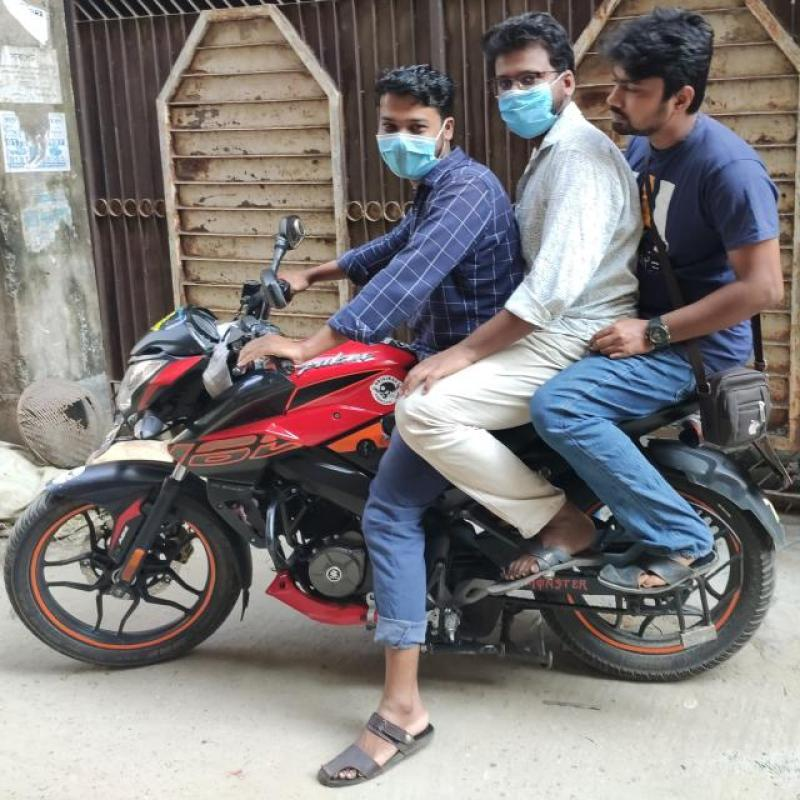nohelmet: (596, 12, 706, 142), (474, 19, 574, 134), (369, 63, 462, 186)
